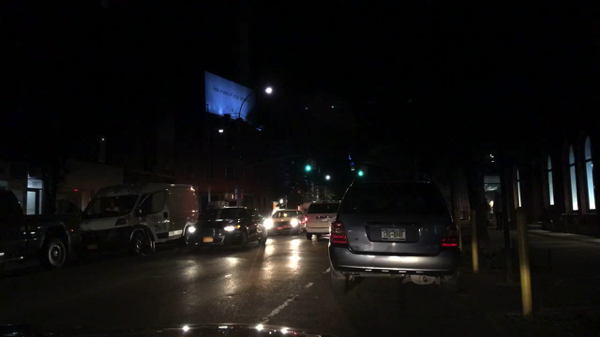car: (327, 176, 460, 296), (81, 183, 199, 256), (0, 189, 71, 270), (187, 201, 267, 255), (305, 200, 342, 240), (266, 209, 303, 236)
person: (491, 192, 502, 232), (484, 198, 491, 230)
traffic light: (305, 160, 311, 172), (310, 160, 316, 172), (357, 167, 363, 177), (363, 166, 369, 176)
traffic sign: (232, 184, 244, 189)
